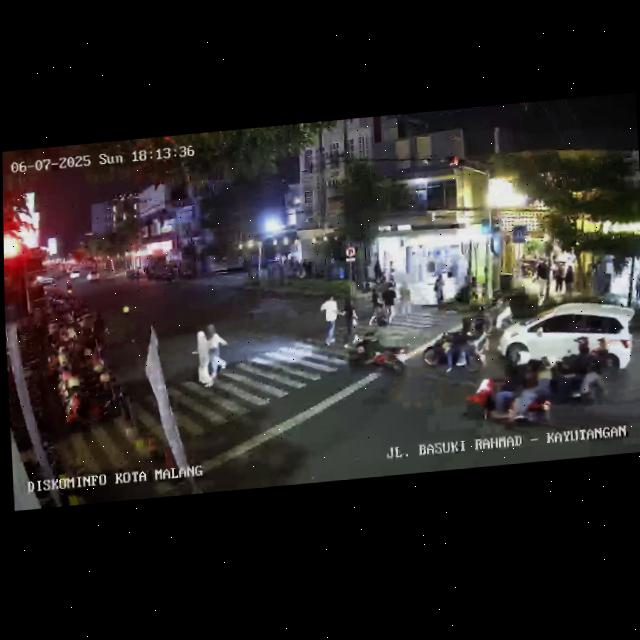car: (496, 297, 633, 378), (85, 266, 100, 283)
motorcycle: (468, 352, 556, 439), (342, 312, 409, 382), (419, 315, 488, 380), (488, 295, 514, 330)
person: (205, 320, 229, 375), (192, 328, 212, 389), (320, 293, 339, 350), (341, 298, 359, 343), (90, 311, 109, 352), (367, 288, 382, 327), (383, 281, 397, 321), (398, 280, 412, 318), (536, 259, 549, 298), (562, 261, 575, 293), (433, 272, 444, 306), (552, 260, 563, 294), (374, 260, 383, 282), (387, 260, 396, 281), (633, 275, 640, 300)
